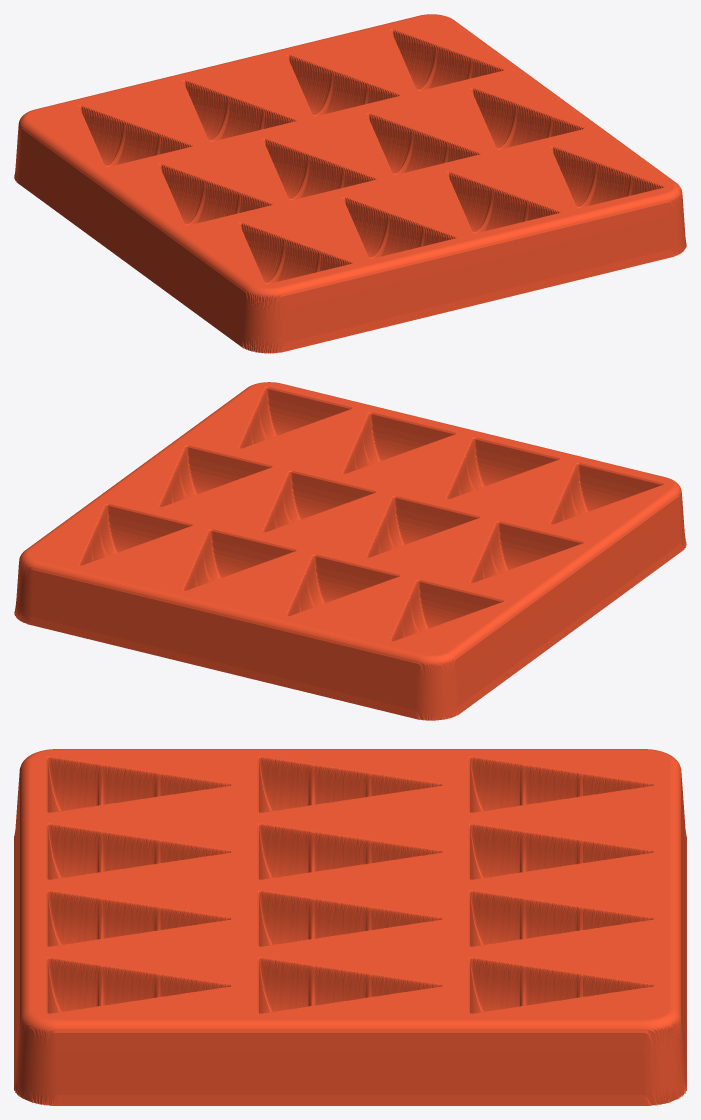
File: mold.glb
3 views of the same model, one above another, from view 1: azimuth 30°, elevation 25°; view 2: azimuth 150°, elevation 25°; view 3: azimuth 270°, elevation 25° (orthographic). The views are drawn at different scales.
Parts seen in each view (by area): view 1: geometry_0; view 2: geometry_0; view 3: geometry_0.
Part boxes in pixels (x1=…): geometry_0: x1=14, y1=14, x2=686, y2=353; geometry_0: x1=14, y1=382, x2=686, y2=720; geometry_0: x1=14, y1=749, x2=686, y2=1105.
Size of the model in its own units: 0.141 by 0.0182 by 0.141.
